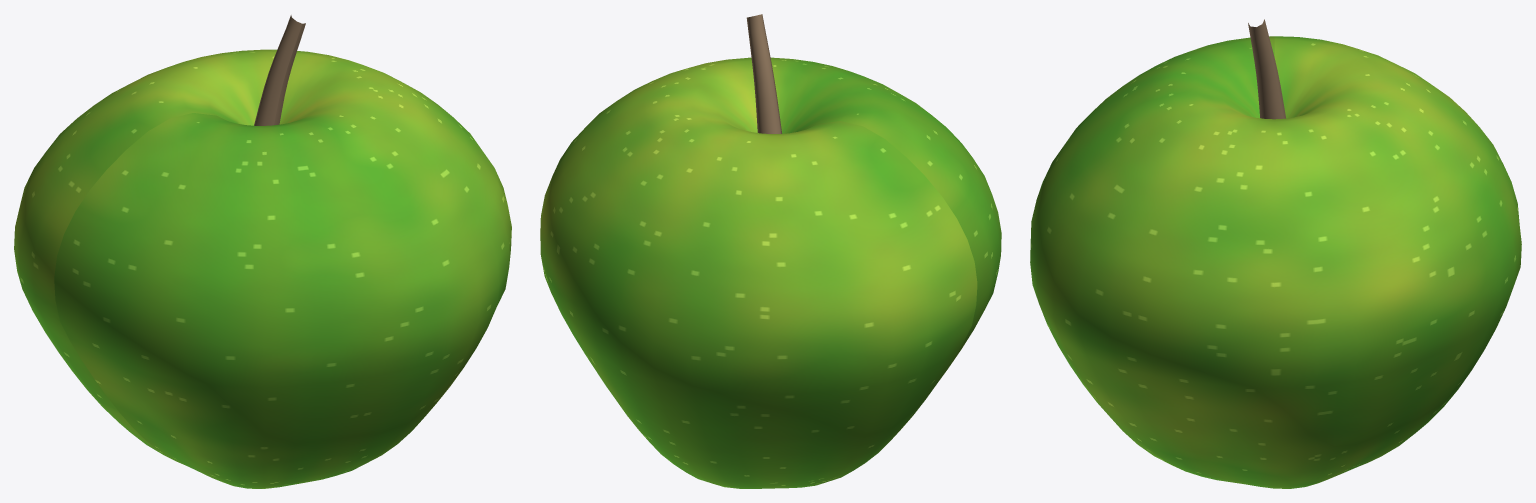
Rendered from green_apple.glb.
3 views of the same model, side by side, from view 1: azimuth 30°, elevation 25°; view 2: azimuth 150°, elevation 25°; view 3: azimuth 270°, elevation 25° (orthographic). The views are drawn at different scales.
Parts seen in each view (by area): view 1: Fruit_02_Green_Apple_Body, Fruit_02_Green_Apple_Stem; view 2: Fruit_02_Green_Apple_Body, Fruit_02_Green_Apple_Stem; view 3: Fruit_02_Green_Apple_Body, Fruit_02_Green_Apple_Stem.
Boxes of the visible parts, x1,y1,x2,y2 form: Fruit_02_Green_Apple_Body: [14, 49, 511, 488]; Fruit_02_Green_Apple_Stem: [254, 15, 305, 125]; Fruit_02_Green_Apple_Body: [540, 57, 1001, 488]; Fruit_02_Green_Apple_Stem: [746, 14, 781, 133]; Fruit_02_Green_Apple_Body: [1030, 36, 1521, 488]; Fruit_02_Green_Apple_Stem: [1248, 19, 1285, 119].
Bounding box in the file's own units: 0.0819 × 0.083 × 0.0808.
3 materials, 1 textured.
